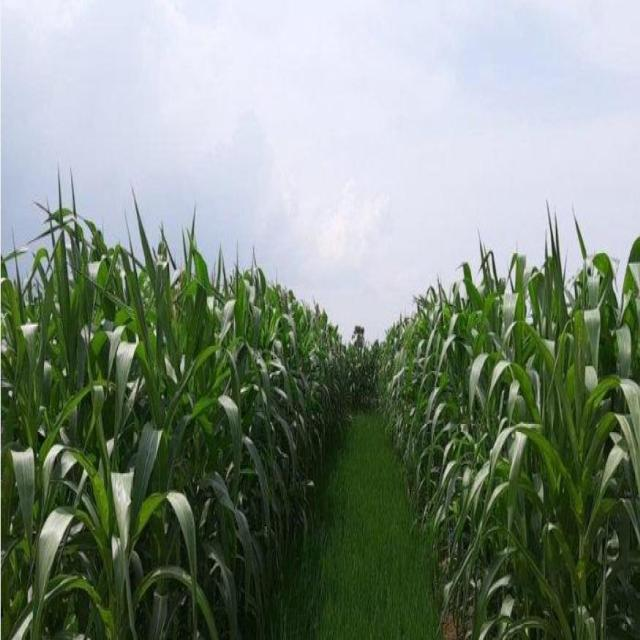row: (238, 396, 474, 640)
